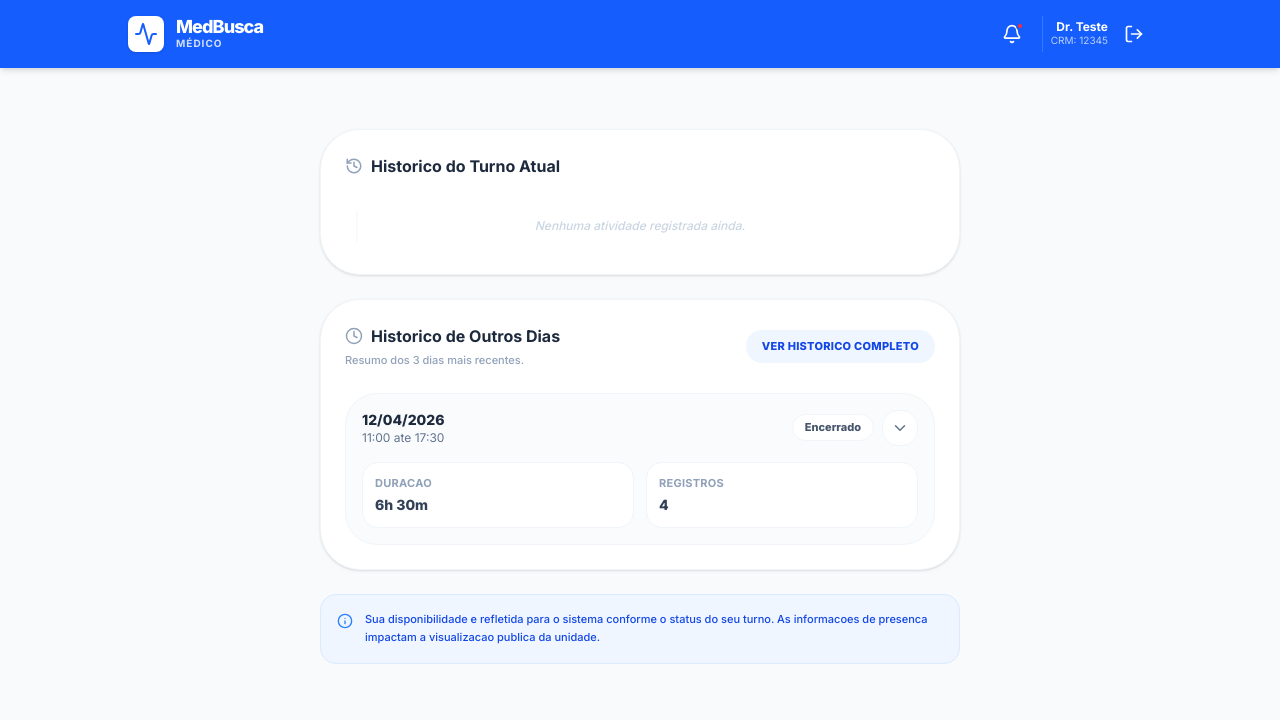
Test: DoctorDashboard â€” polling 15s › Test 10: expande os detalhes dos registros ao clicar no card do historico
(page scrolled)
Click the text "12/04/2026" at x=403, y=420, box [362,410,444,430]
(page scrolled)
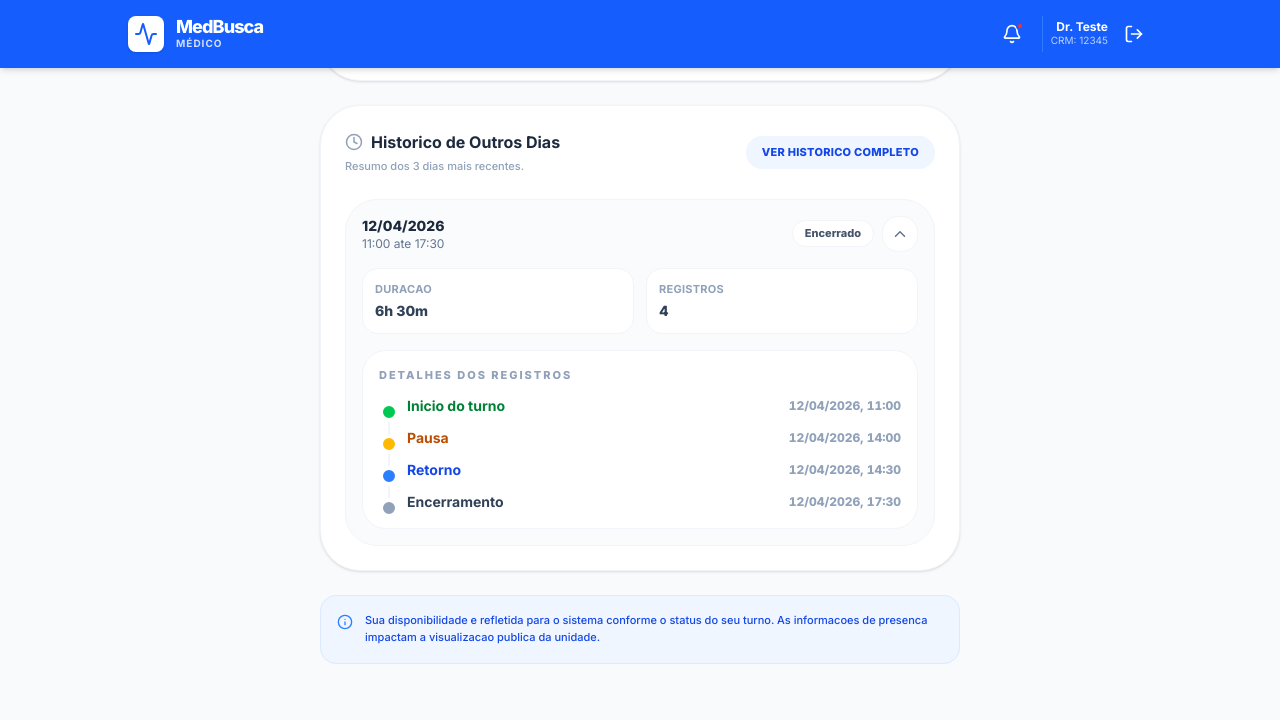
expect the text "Detalhes dos registros" is shown: met, box [379,368,572,382]
expect the text "Inicio do turno" is shown: met, box [407,396,505,416]
expect the text "Pausa" is shown: met, box [407,428,449,448]
